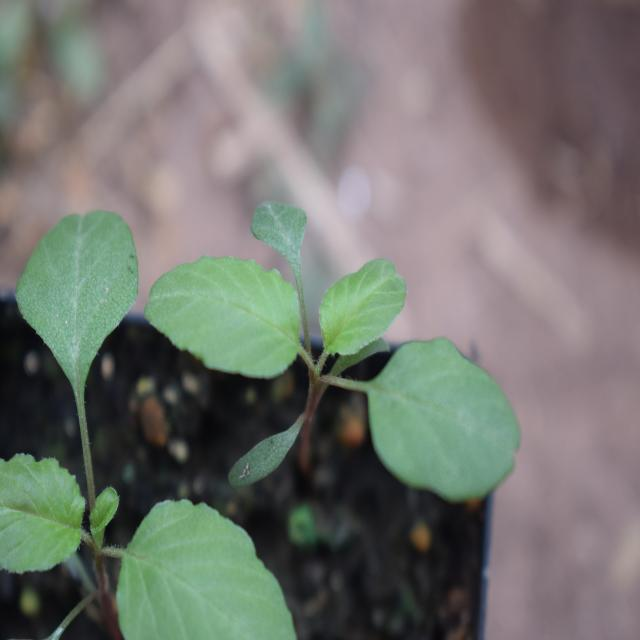pigweed: (139, 213, 506, 509)
